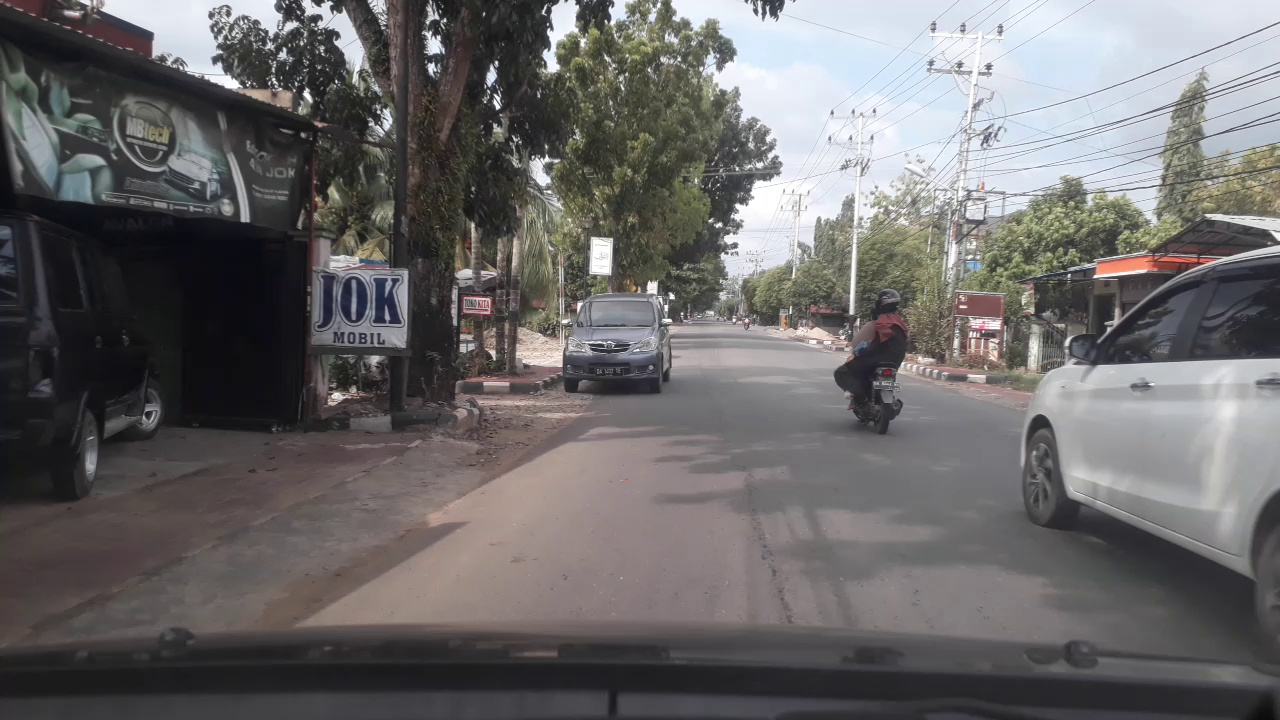car: (1018, 239, 1280, 645), (0, 205, 168, 499), (562, 295, 672, 392)
person: (844, 288, 905, 386)
